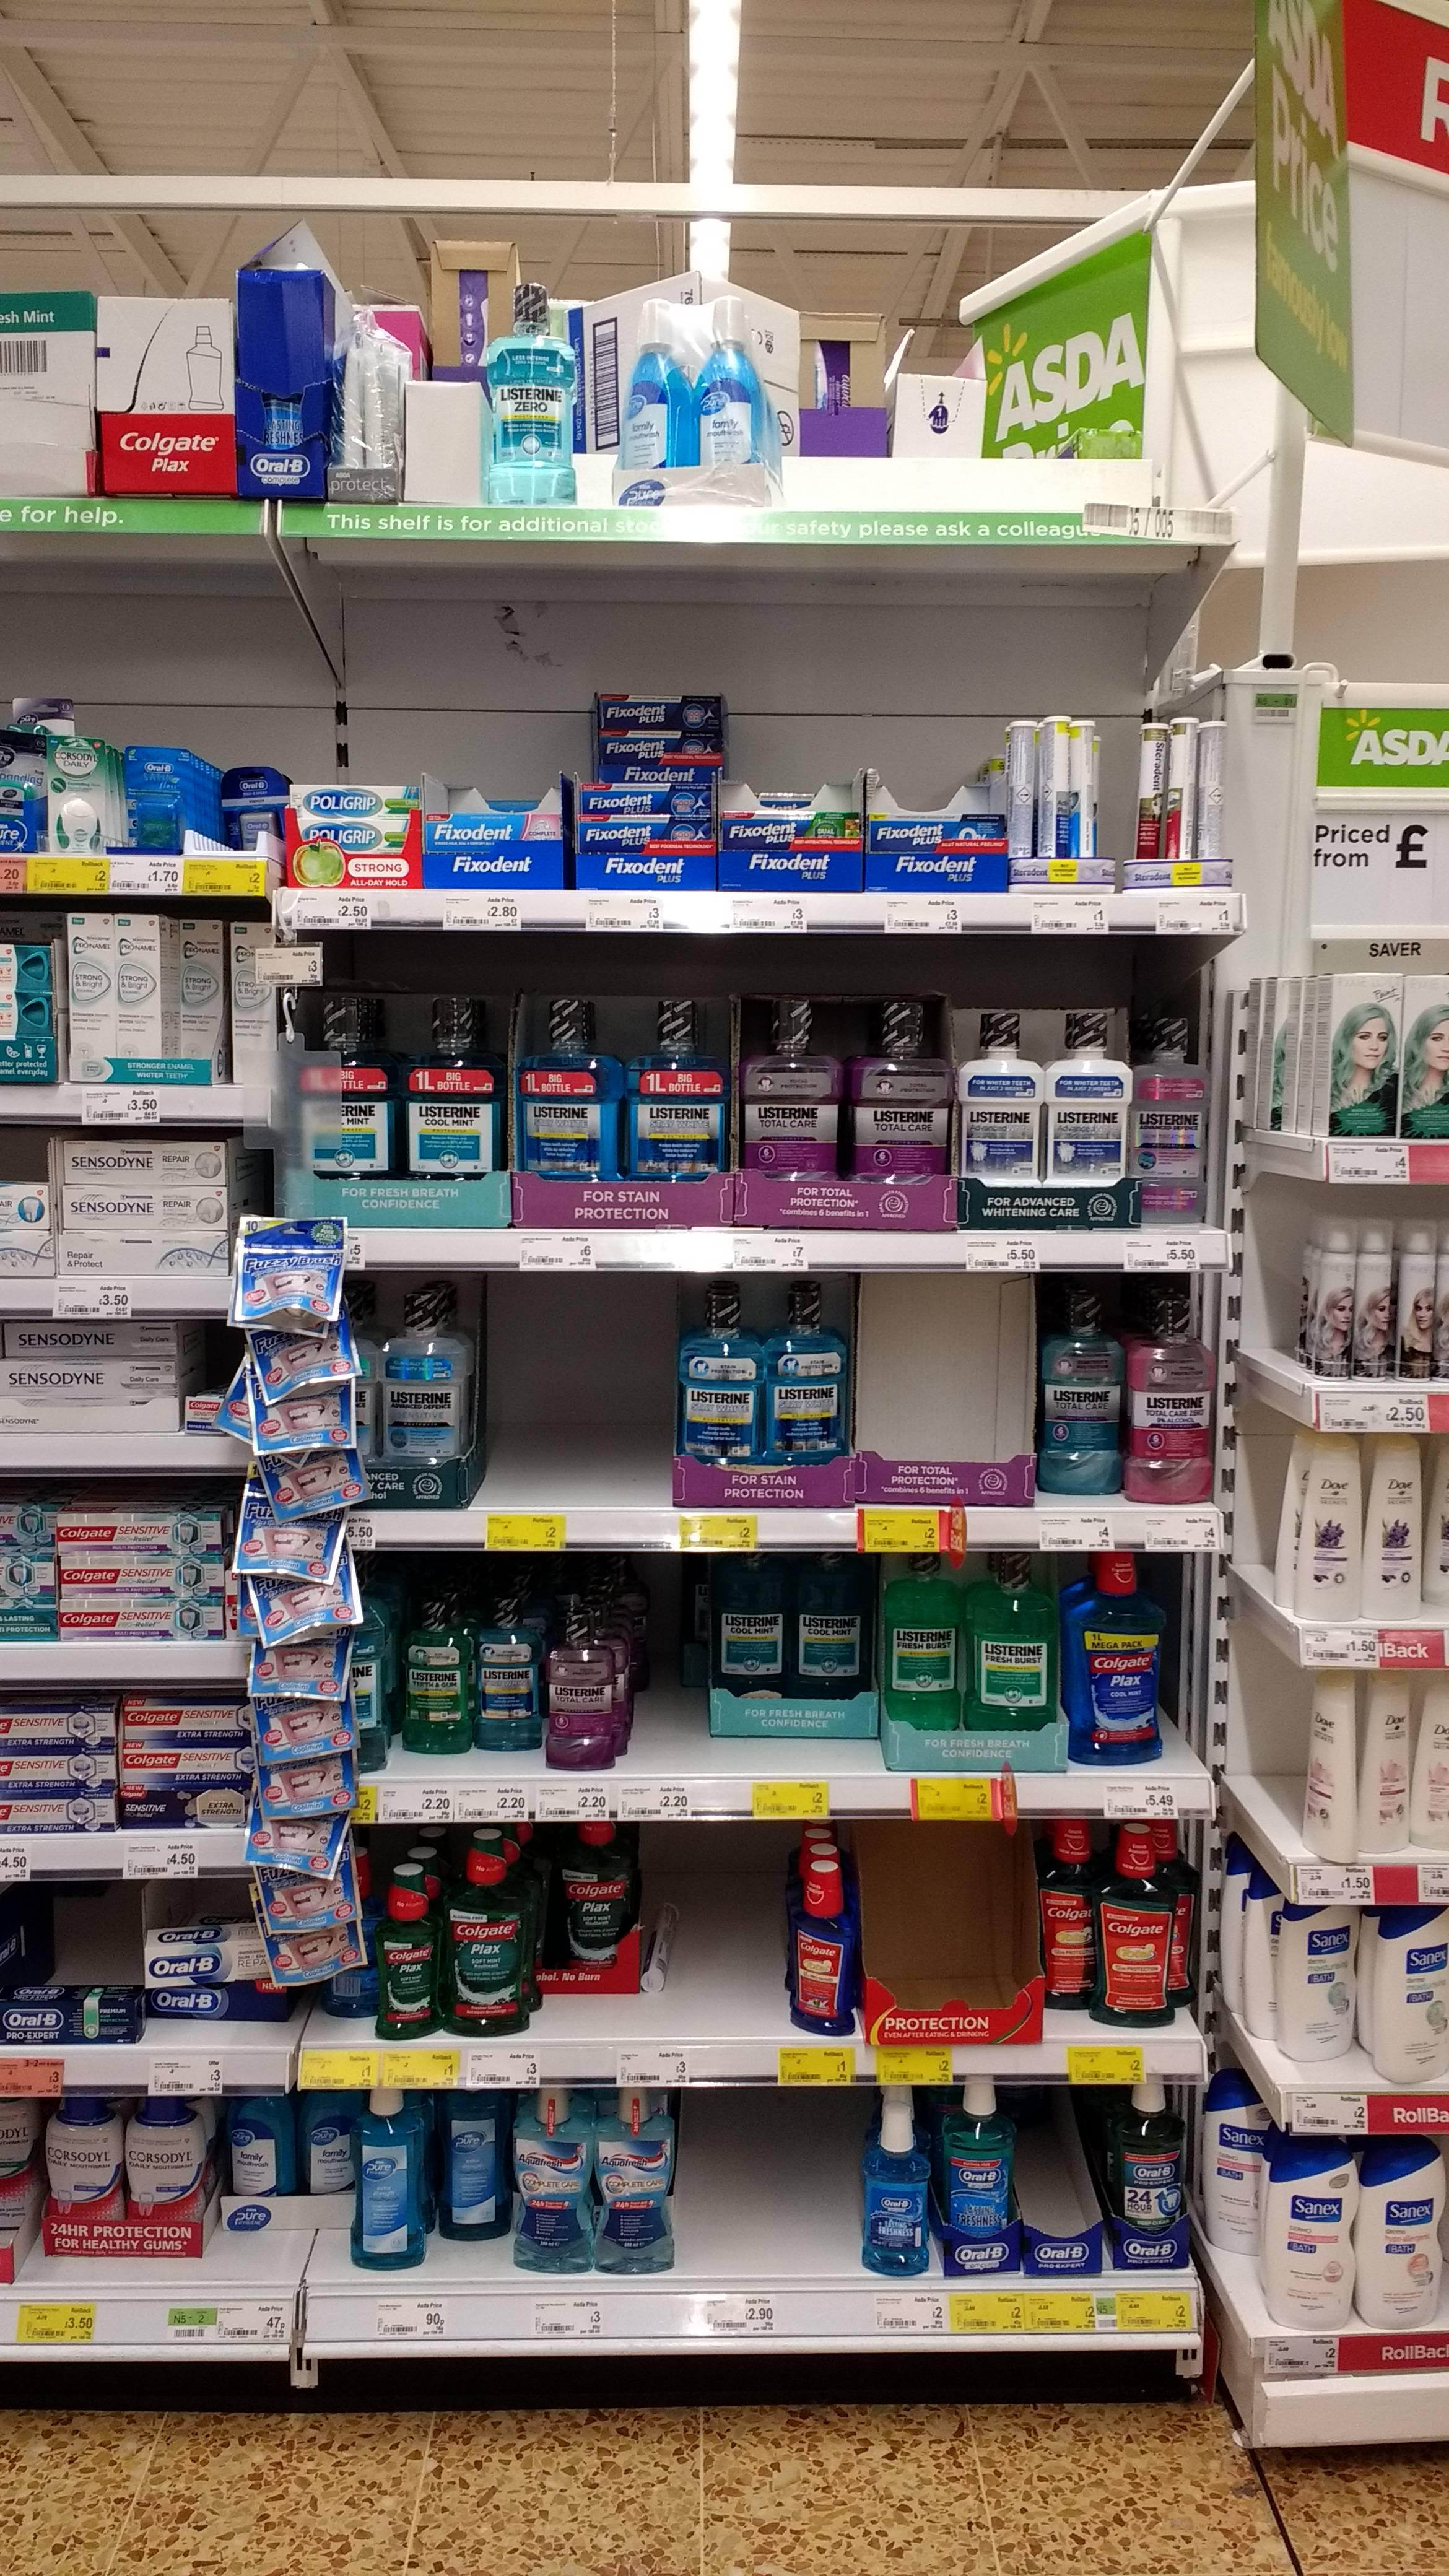empty: (492, 1292, 667, 1491), (867, 1845, 1017, 2020), (869, 1284, 1014, 1463), (694, 2098, 842, 2272), (679, 1838, 780, 2022), (640, 1568, 702, 1769), (1030, 2089, 1085, 2229)
misalignment: (1100, 1826, 1173, 2031)
